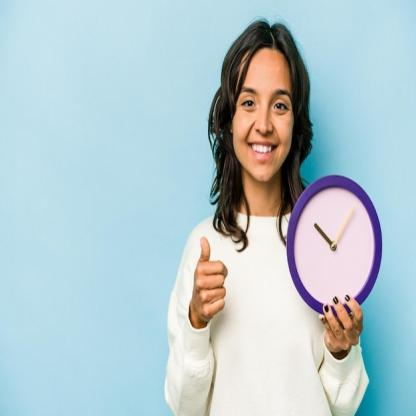thumb_up: (187, 232, 231, 328)
